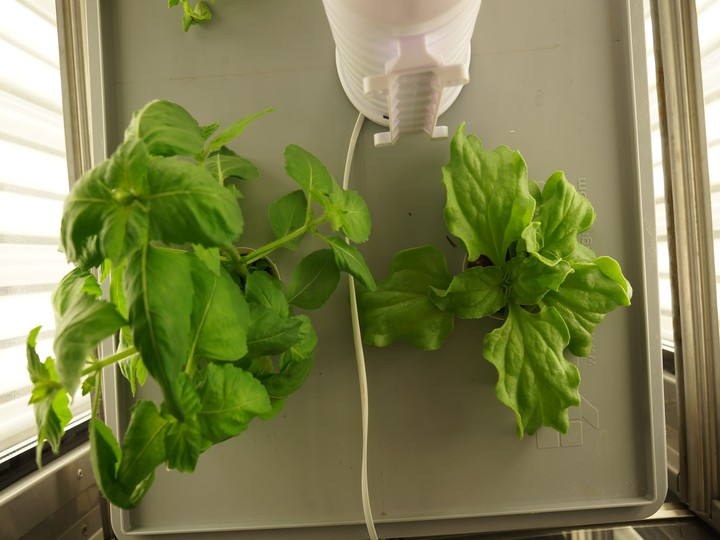basilic_blue_spice: (6, 97, 382, 522)
ficoide_glaciale: (362, 144, 647, 457)
